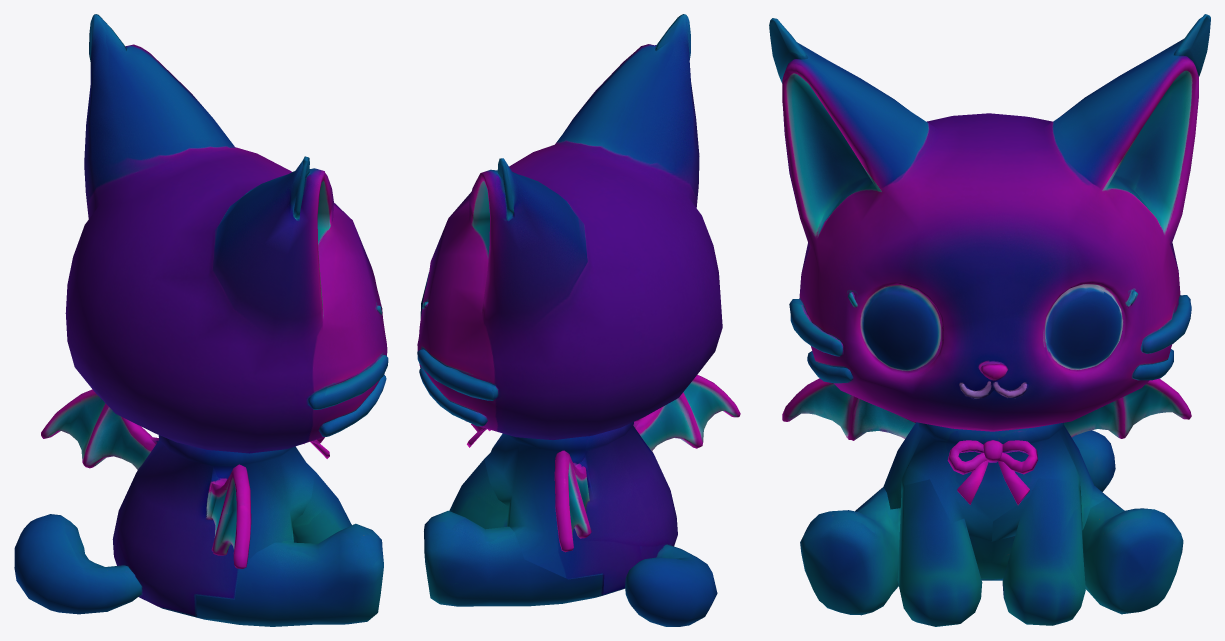
3 renders of one model, left to right at view 1: azimuth 30°, elevation 25°; view 2: azimuth 150°, elevation 25°; view 3: azimuth 270°, elevation 25°, orthographic. The views are drawn at different scales.
Visible parts, largest first — view 1: tripo_part_0, tripo_part_4, tripo_part_2, tripo_part_6, tripo_part_5, tripo_part_1, tripo_part_7, tripo_part_9; view 2: tripo_part_0, tripo_part_4, tripo_part_2, tripo_part_6, tripo_part_1, tripo_part_5, tripo_part_13, tripo_part_8, tripo_part_10; view 3: tripo_part_0, tripo_part_2, tripo_part_4, tripo_part_13, tripo_part_1, tripo_part_5, tripo_part_6, tripo_part_7, tripo_part_8, tripo_part_12, tripo_part_3, tripo_part_9 (+2 smaller).
Boxes of the visible parts, left/top/right/bottom form: tripo_part_0: left=65, top=14, right=387, bottom=453; tripo_part_4: left=112, top=435, right=315, bottom=617; tripo_part_2: left=174, top=472, right=383, bottom=626; tripo_part_6: left=14, top=514, right=141, bottom=614; tripo_part_5: left=41, top=389, right=158, bottom=469; tripo_part_1: left=205, top=464, right=251, bottom=568; tripo_part_7: left=308, top=355, right=388, bottom=409; tripo_part_9: left=318, top=374, right=386, bottom=436; tripo_part_0: left=417, top=14, right=722, bottom=439; tripo_part_4: left=484, top=421, right=677, bottom=595; tripo_part_2: left=424, top=510, right=604, bottom=606; tripo_part_6: left=625, top=545, right=717, bottom=626; tripo_part_1: left=634, top=375, right=740, bottom=453; tripo_part_5: left=554, top=450, right=591, bottom=552; tripo_part_13: left=449, top=459, right=508, bottom=529; tripo_part_8: left=417, top=349, right=498, bottom=400; tripo_part_10: left=419, top=368, right=487, bottom=426; tripo_part_0: left=769, top=14, right=1210, bottom=431; tripo_part_2: left=800, top=479, right=1183, bottom=626; tripo_part_4: left=883, top=422, right=1121, bottom=580; tripo_part_13: left=991, top=478, right=1085, bottom=625; tripo_part_1: left=782, top=378, right=915, bottom=440; tripo_part_5: left=1063, top=378, right=1191, bottom=438; tripo_part_6: left=1072, top=430, right=1115, bottom=491; tripo_part_7: left=789, top=299, right=843, bottom=356; tripo_part_8: left=1142, top=295, right=1191, bottom=353; tripo_part_12: left=997, top=440, right=1037, bottom=474; tripo_part_3: left=947, top=440, right=988, bottom=474; tripo_part_9: left=807, top=351, right=853, bottom=383.
Bounding box in the file's own units: 0.6556 × 1 × 0.726.
20 materials, 20 textured.
